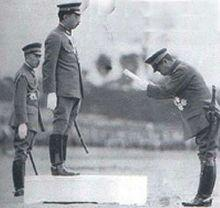bending: (133, 50, 220, 208)
up: (46, 2, 94, 176), (7, 38, 42, 192)
